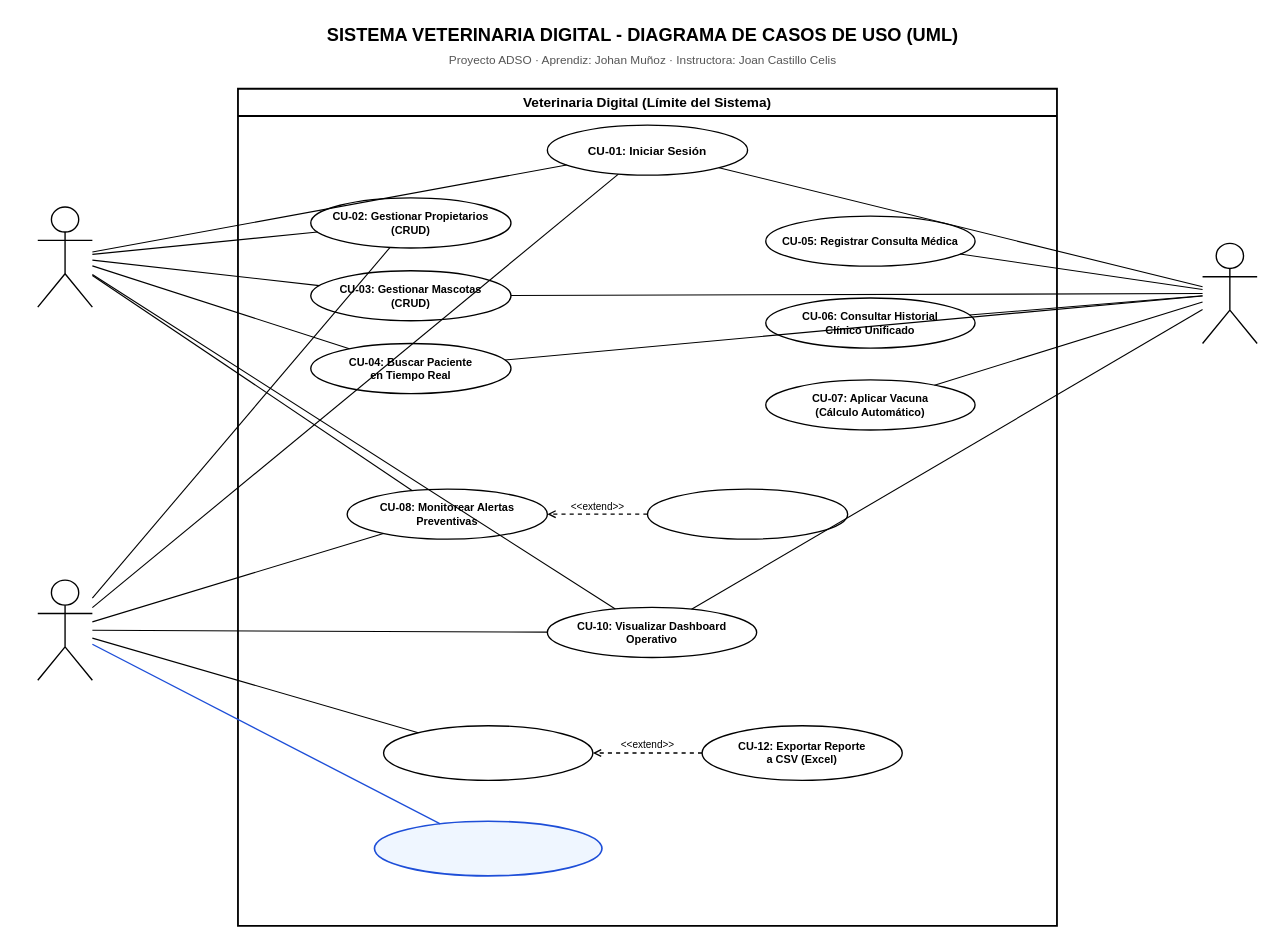
Image size: 1276x942. Some labels were removed from this diagram. The centre of each missing label's shape, as x and y in pixels:
"CU-09: Notificar por WhatsApp" belongs at [747,513].
"CU-11: Generar Reportes Asistenciales y Financieros" belongs at [487,753].
"CU-13: Gestionar Usuarios y Roles (Solo Administrador - RBAC)" belongs at [487,848].
"👤 Administrador (Director)" belongs at [65,629].
"👤 Médico Veterinario" belongs at [1229,293].
"👤 Recepción (Auxiliar)" belongs at [65,256].
